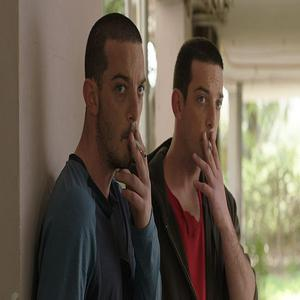cigarette: (132, 138, 148, 159), (204, 137, 215, 153)
